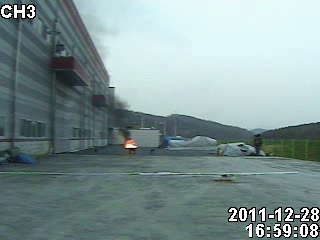fire: (121, 134, 139, 150)
